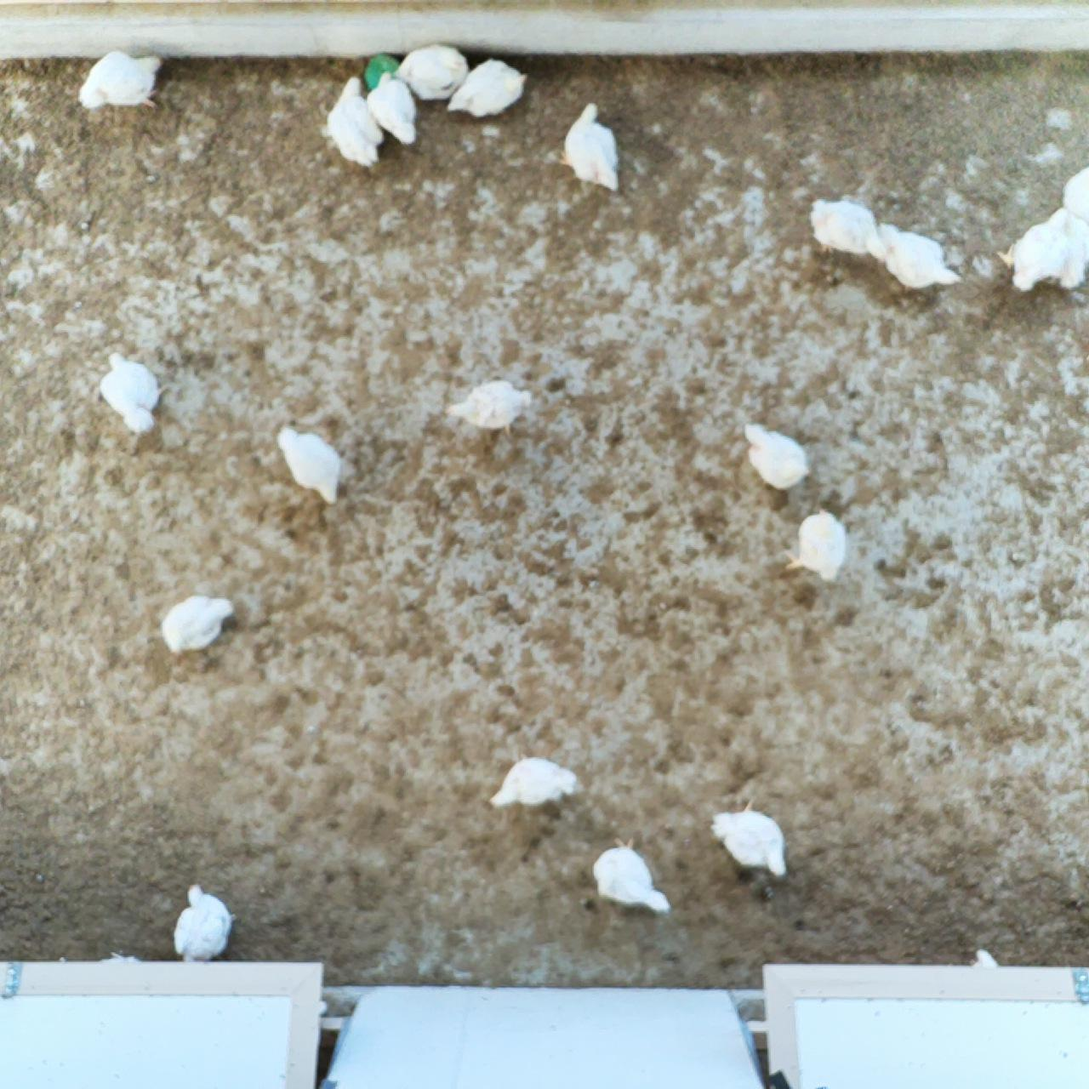chicken: (994, 201, 1089, 298), (588, 826, 680, 921), (708, 793, 793, 884), (94, 349, 174, 443), (875, 215, 967, 294), (552, 98, 626, 193), (274, 421, 349, 508), (805, 190, 892, 264), (323, 72, 388, 171), (485, 748, 581, 815), (441, 376, 538, 442), (167, 880, 239, 964), (75, 46, 165, 112), (781, 502, 850, 588), (158, 588, 239, 656), (742, 418, 814, 493), (445, 58, 529, 122), (392, 42, 472, 104), (364, 68, 424, 148), (1061, 162, 1089, 228)
